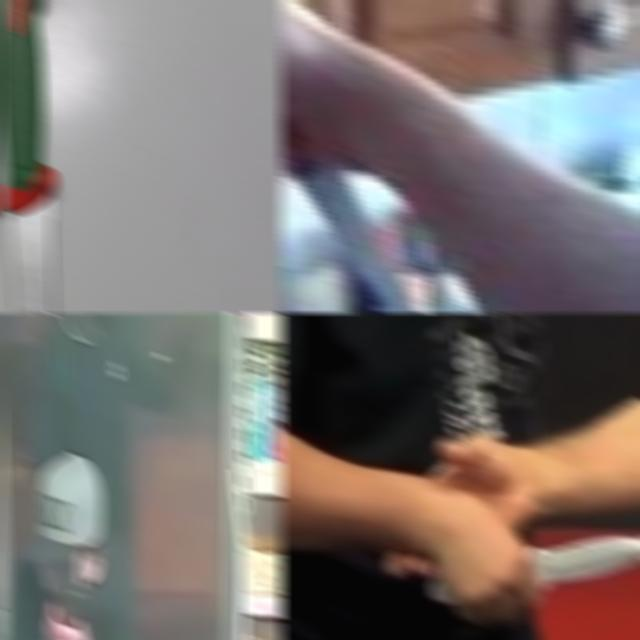Knife: (0, 0, 58, 314), (528, 534, 640, 600)
Knife_Handle: (278, 0, 430, 314), (422, 525, 640, 619)
